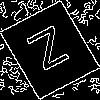Z: (25, 25, 77, 81)
